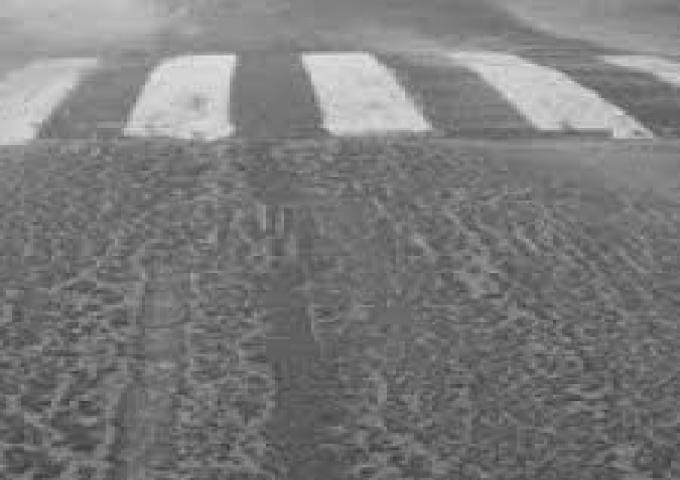speedbreaker: (0, 35, 678, 166)
